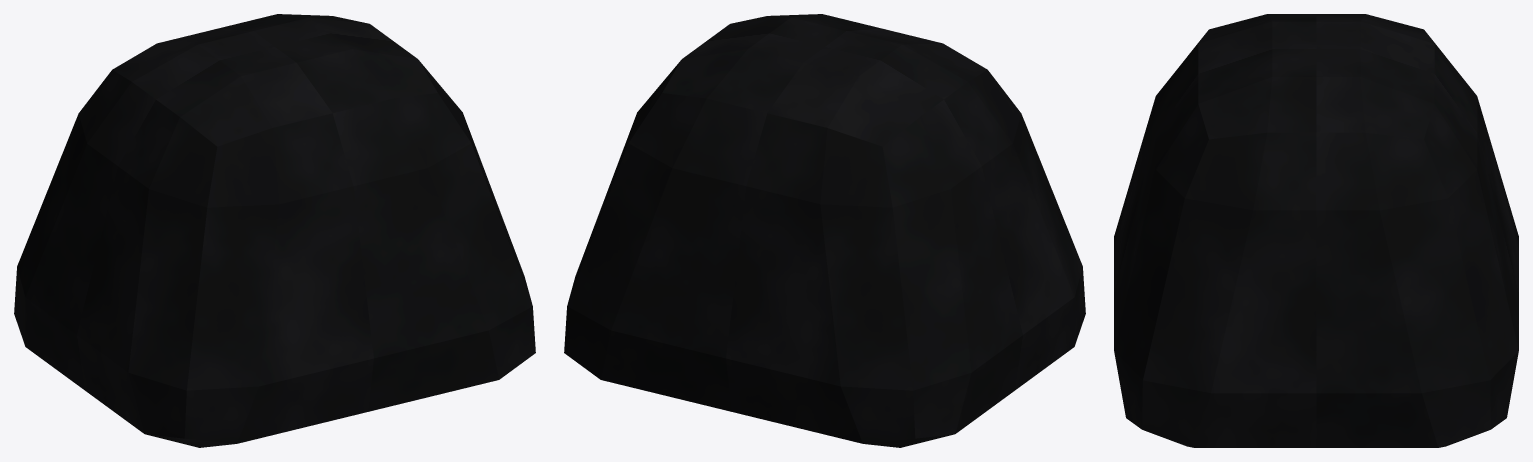
Rendered from Street_Sack2.obj.
3 views of the same model, side by side, from view 1: azimuth 30°, elevation 25°; view 2: azimuth 150°, elevation 25°; view 3: azimuth 270°, elevation 25° (orthographic). The views are drawn at different scales.
Size of the model in its own units: 0.5424 by 0.42 by 0.4696.
Materials: 1 (1 with a texture image).
